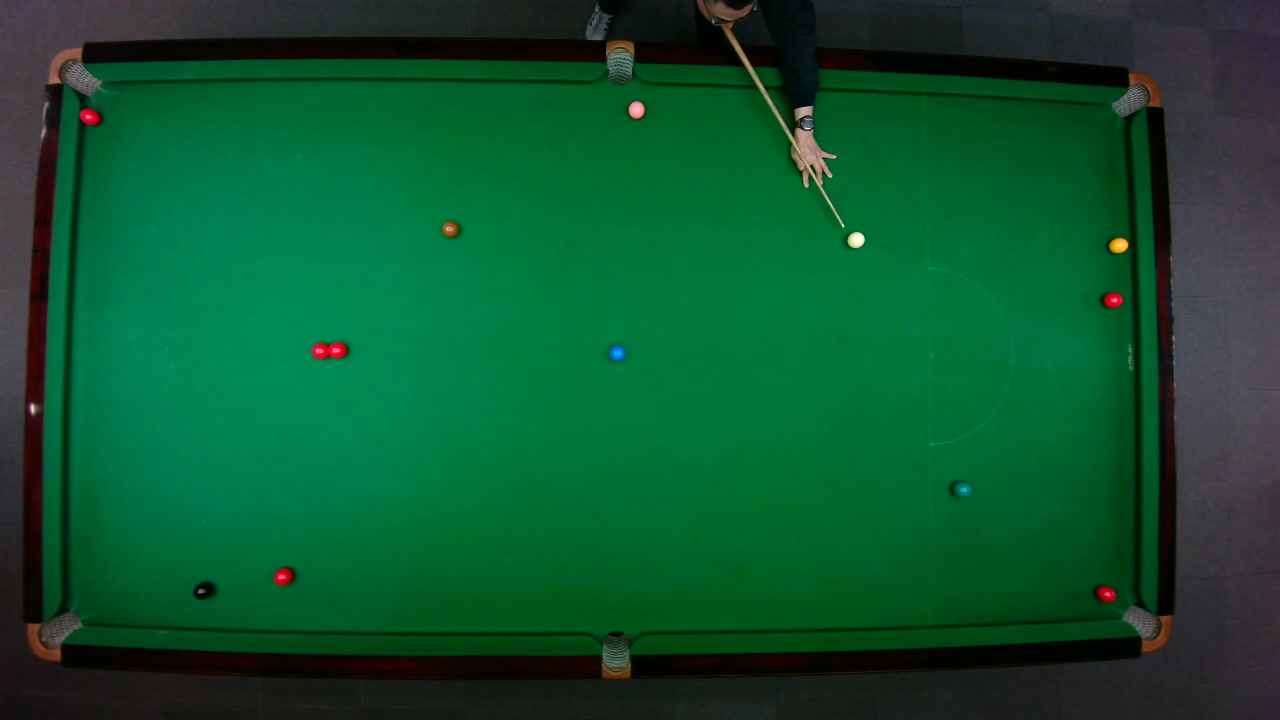bag: (25, 609, 83, 661), (45, 46, 102, 96), (1119, 603, 1172, 653), (1108, 71, 1162, 117), (600, 629, 630, 680), (605, 38, 634, 85)
black: (192, 581, 213, 600)
blue: (607, 344, 626, 361)
brown: (440, 220, 459, 237)
cue: (721, 25, 845, 227)
green: (950, 480, 972, 497)
pink: (626, 99, 645, 119)
red: (77, 106, 101, 125), (324, 340, 347, 359), (272, 566, 294, 585), (1094, 584, 1117, 602), (310, 341, 331, 359), (1101, 291, 1123, 308)
white: (845, 230, 865, 249)
yellow: (1107, 236, 1129, 253)
zone: (927, 266, 1013, 445)
